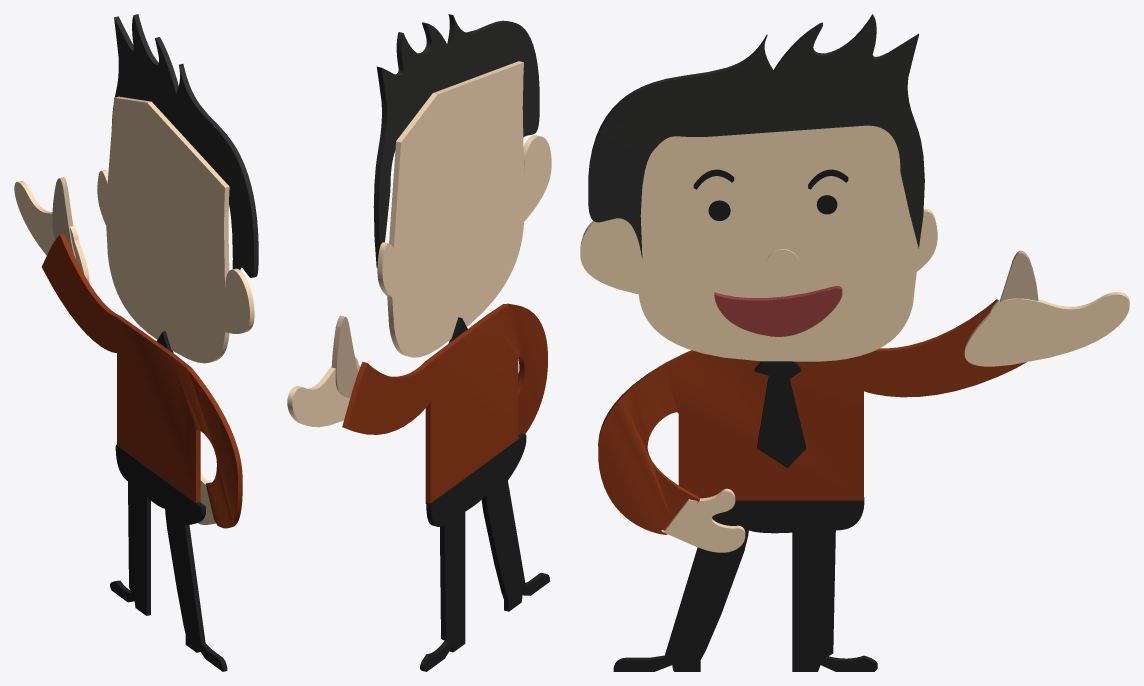
The picture shows the model from 3 angles, left to right: view 1: azimuth 30°, elevation 25°; view 2: azimuth 150°, elevation 25°; view 3: azimuth 270°, elevation 25°; orthographic projection. The views are drawn at different scales.
Parts seen in each view (by area): view 1: 封顶_2 (×6), 挤压.4, 挤压.1, 挤压.5, 挤压.2, 挤压.3; view 2: 封顶_2 (×6), 挤压.2, 挤压.5, 挤压.1, 挤压.4; view 3: 封顶_1 (×9), 挤压.1, 挤压.4, 圆柱.4.
Boxes of the visible parts, bbox=[...] form: 封顶_2 (×6): bbox=[14, 15, 253, 671]; 挤压.4: bbox=[60, 234, 242, 527]; 挤压.1: bbox=[114, 14, 258, 277]; 挤压.5: bbox=[114, 444, 227, 671]; 挤压.2: bbox=[101, 96, 254, 362]; 挤压.3: bbox=[18, 181, 89, 282]; 封顶_2 (×6): bbox=[292, 17, 551, 671]; 挤压.2: bbox=[377, 61, 539, 356]; 挤压.5: bbox=[420, 433, 545, 671]; 挤压.1: bbox=[373, 14, 512, 267]; 挤压.4: bbox=[342, 303, 524, 503]; 封顶_1 (×9): bbox=[580, 17, 1129, 671]; 挤压.1: bbox=[588, 14, 924, 255]; 挤压.4: bbox=[598, 299, 998, 499]; 圆柱.4: bbox=[766, 249, 799, 279].
Bounding box in the file's own units: 8.93 × 183 × 137.
